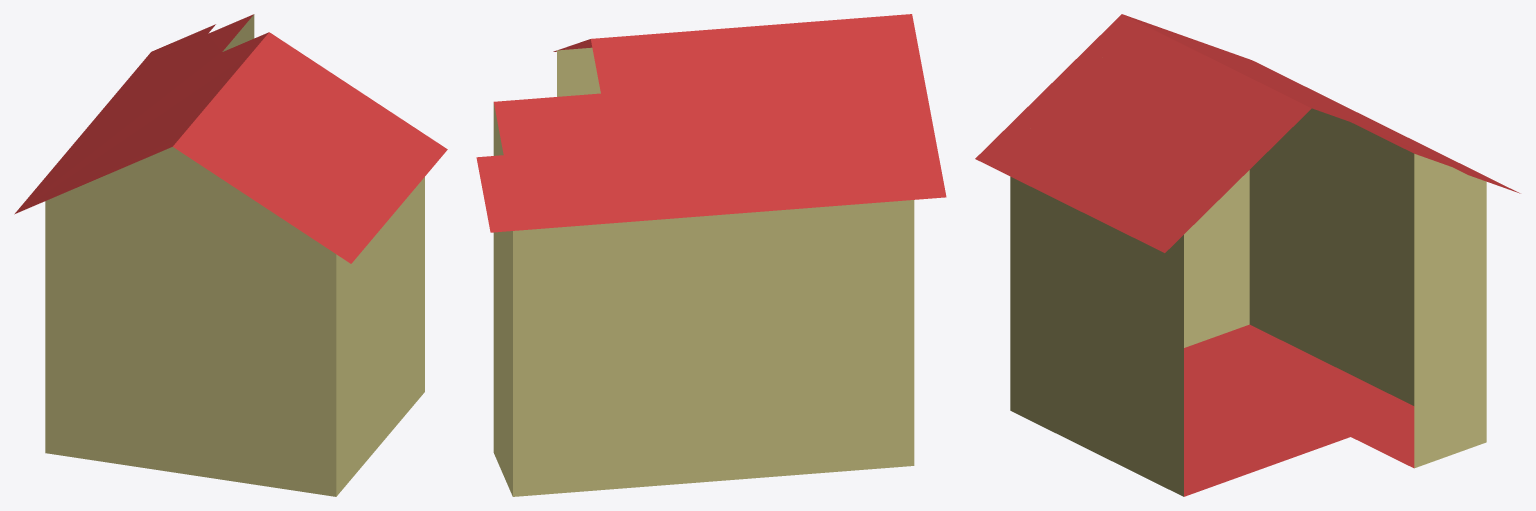
The picture shows the model from 3 angles, left to right: view 1: azimuth 30°, elevation 25°; view 2: azimuth 150°, elevation 25°; view 3: azimuth 270°, elevation 25°; orthographic projection. The views are drawn at different scales.
Bounding box in the file's own units: 9.22 × 10.98 × 7.59.
